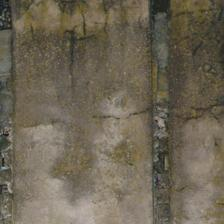Crack: (52, 80, 100, 144), (32, 20, 93, 70), (19, 0, 43, 64)
